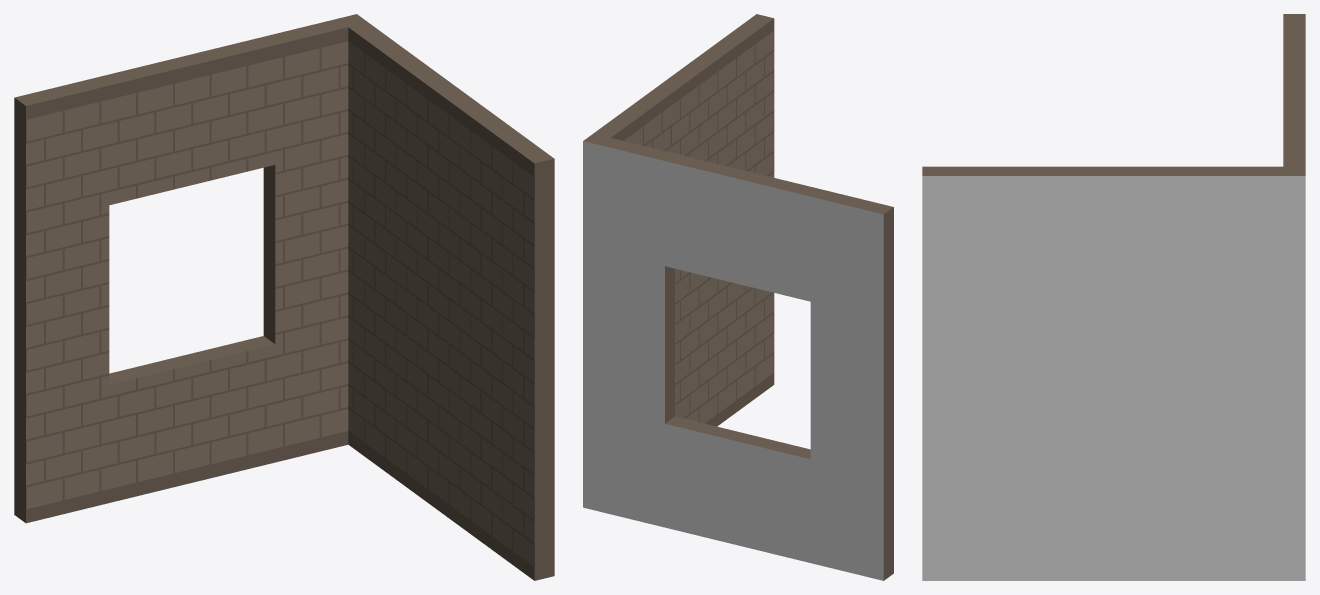
File: Wall1_C10_10.fbx
3 views of the same model, side by side, from view 1: azimuth 30°, elevation 25°; view 2: azimuth 150°, elevation 25°; view 3: azimuth 270°, elevation 25° (orthographic). The views are drawn at different scales.
Parts seen in each view (by area): view 1: Wall1_C10_10; view 2: Wall1_C10_10; view 3: Wall1_C10_10.
Boxes of the visible parts, box(x1,y1,x2,y2) form: Wall1_C10_10: box(14, 14, 554, 580); Wall1_C10_10: box(583, 14, 893, 580); Wall1_C10_10: box(922, 14, 1305, 580).
Size of the model in its own units: 258 by 300 by 258.
